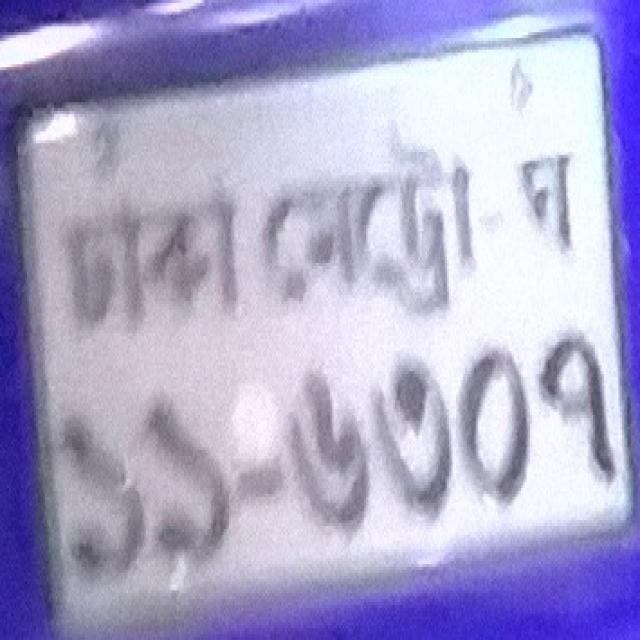numberplate: (1, 1, 639, 638)
